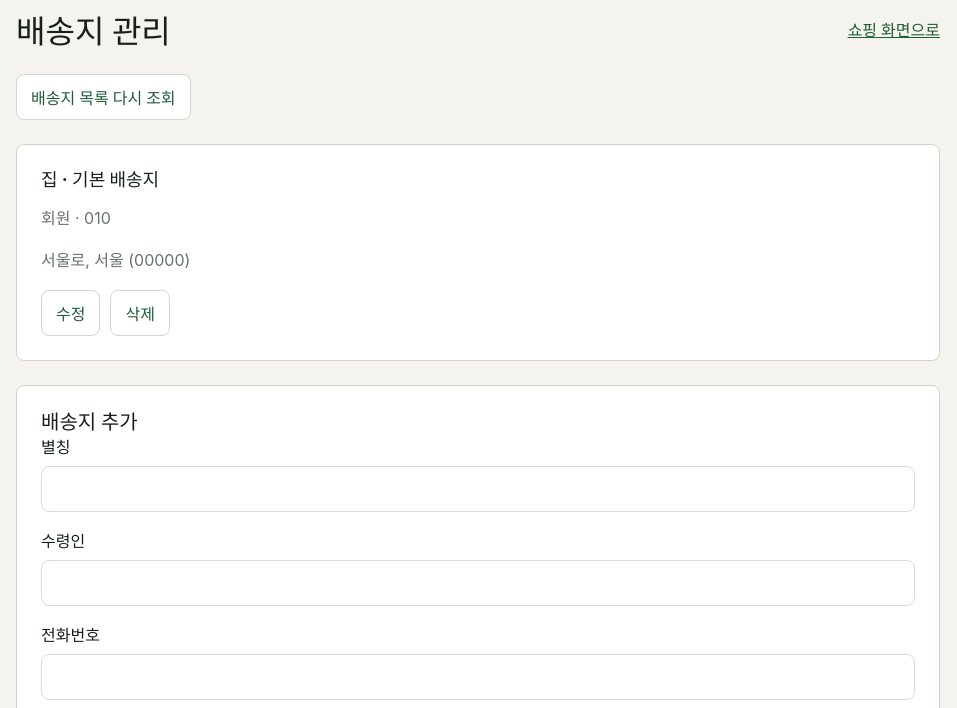
Scenario: ends editing when an external book change deletes the edited address
expect the heading "집 · 기본 배송지" is shown: met, box [41,169,159,190]
Click the button with aria-label "집 수정": (71, 313) [41,290,100,336]
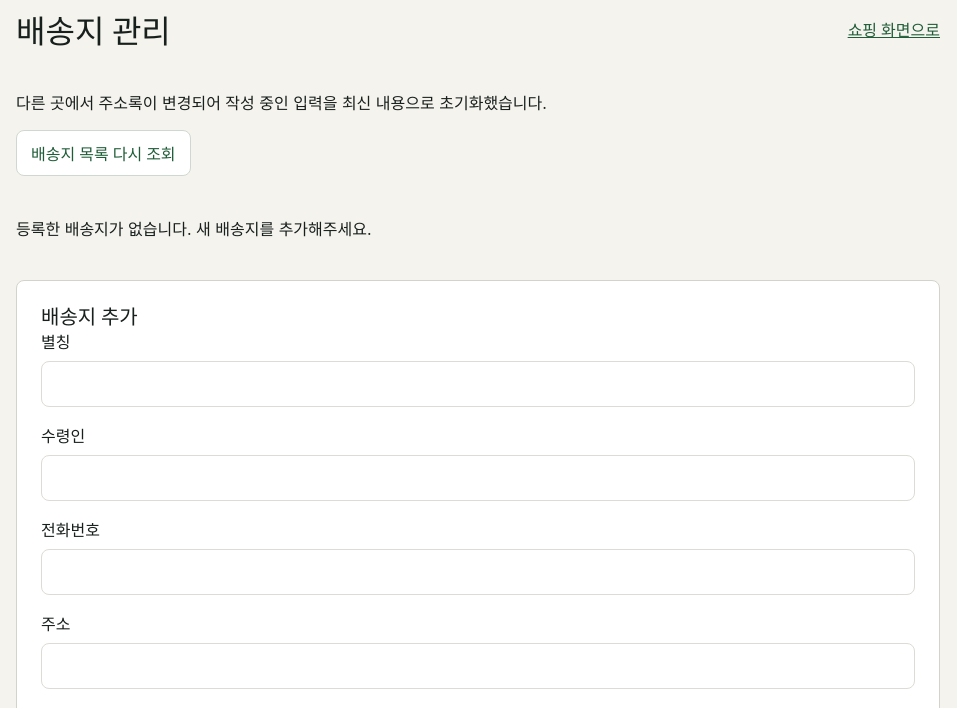
expect the heading "배송지 추가" is shown: met, box [41,305,138,329]
expect the text "다른 곳에서 주소록이 변경되어 작성 중인 입력을 최신 내용으로 초기화했습니다." is shown: met, box [16,93,547,113]
